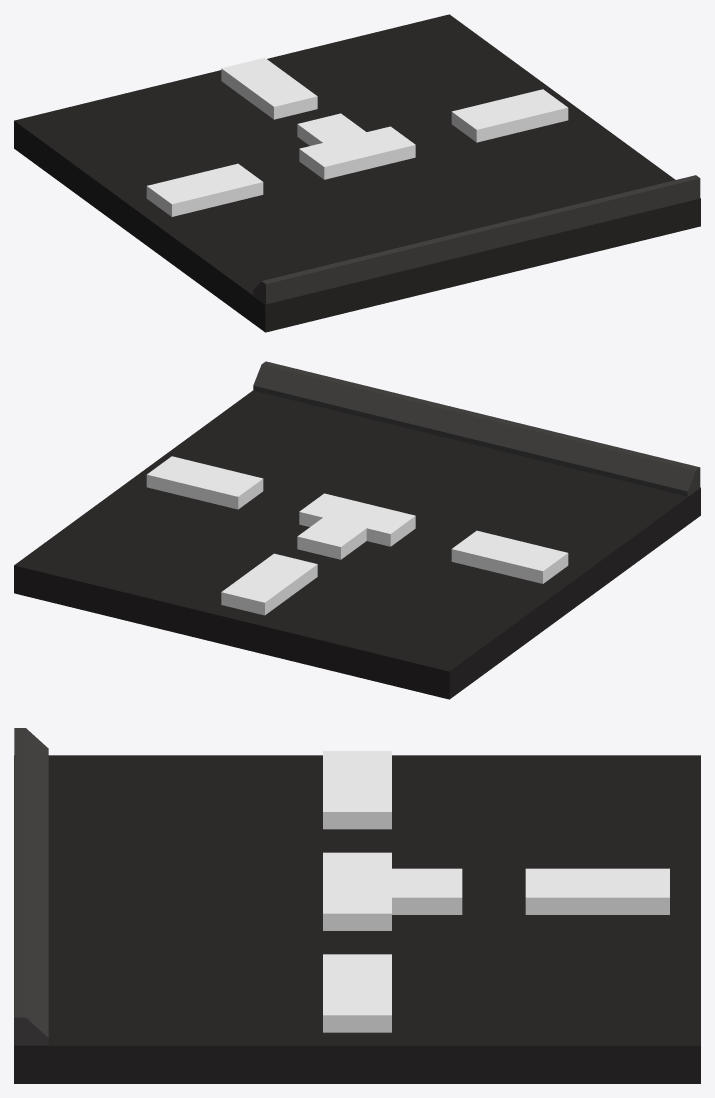
File: road-3ooo.obj
3 views of the same model, one above another, from view 1: azimuth 30°, elevation 25°; view 2: azimuth 150°, elevation 25°; view 3: azimuth 270°, elevation 25° (orthographic). The views are drawn at different scales.
Parts seen in each view (by area): view 1: Cube, Cube.006, Cube.005, Cube.004, Cube.001, Cube.003, Cube.002; view 2: Cube, Cube.006, Cube.005, Cube.004, Cube.003, Cube.001, Cube.002; view 3: Cube, Cube.006, Cube.003, Cube.001, Cube.004, Cube.005, Cube.002.
Boxes of the visible parts, box(x1,y1,x2,y2) form: Cube: box(14, 14, 700, 332); Cube.006: box(253, 175, 700, 304); Cube.005: box(146, 163, 263, 216); Cube.004: box(451, 89, 568, 142); Cube.001: box(299, 126, 415, 179); Cube.003: box(221, 57, 317, 119); Cube.002: box(297, 113, 366, 145); Cube: box(14, 390, 700, 699); Cube.006: box(253, 361, 700, 496); Cube.005: box(451, 530, 568, 583); Cube.004: box(146, 456, 263, 509); Cube.003: box(221, 553, 317, 615); Cube.001: box(299, 493, 415, 546); Cube.002: box(297, 517, 366, 559); Cube: box(14, 755, 700, 1083); Cube.006: box(14, 728, 48, 1045); Cube.003: box(525, 868, 669, 914); Cube.001: box(323, 852, 391, 930); Cube.004: box(323, 954, 391, 1032); Cube.005: box(323, 751, 391, 829); Cube.002: box(392, 868, 462, 914).
Size of the model in its own units: 1 by 0.1057 by 1.
1 material, 1 textured.
